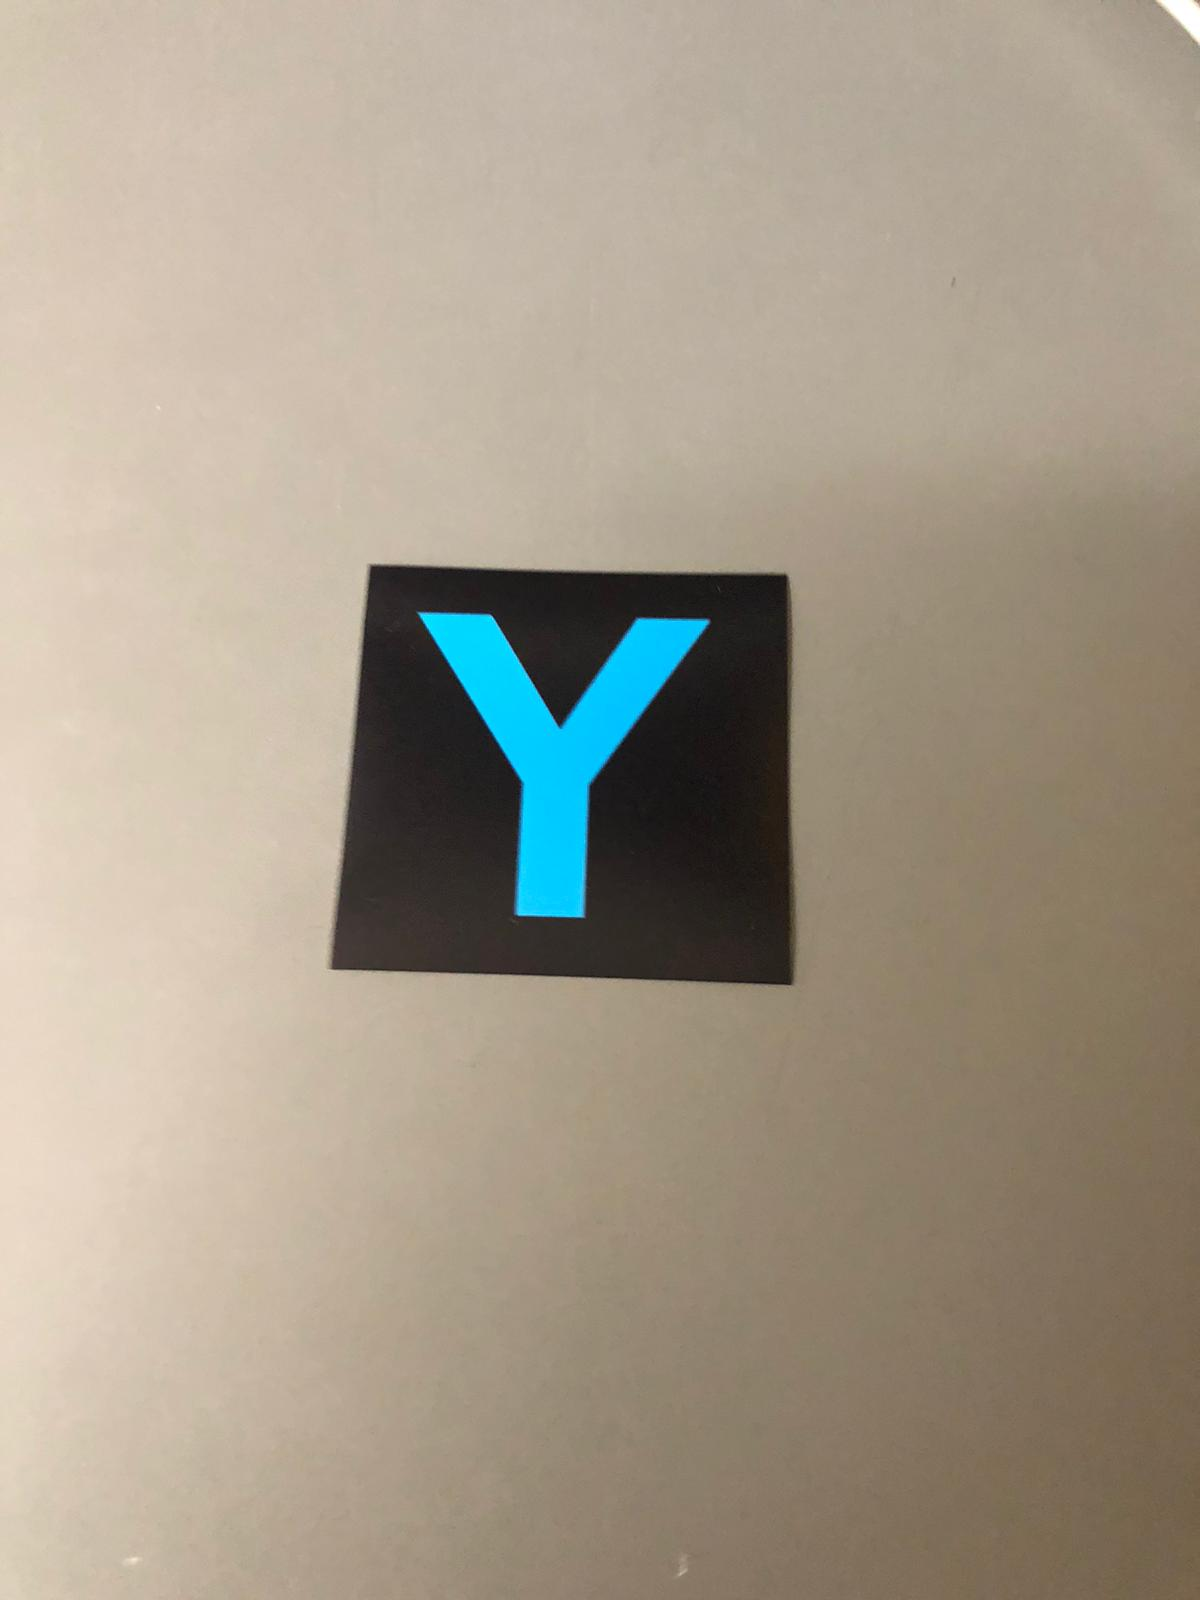Y: (362, 574, 771, 963)
